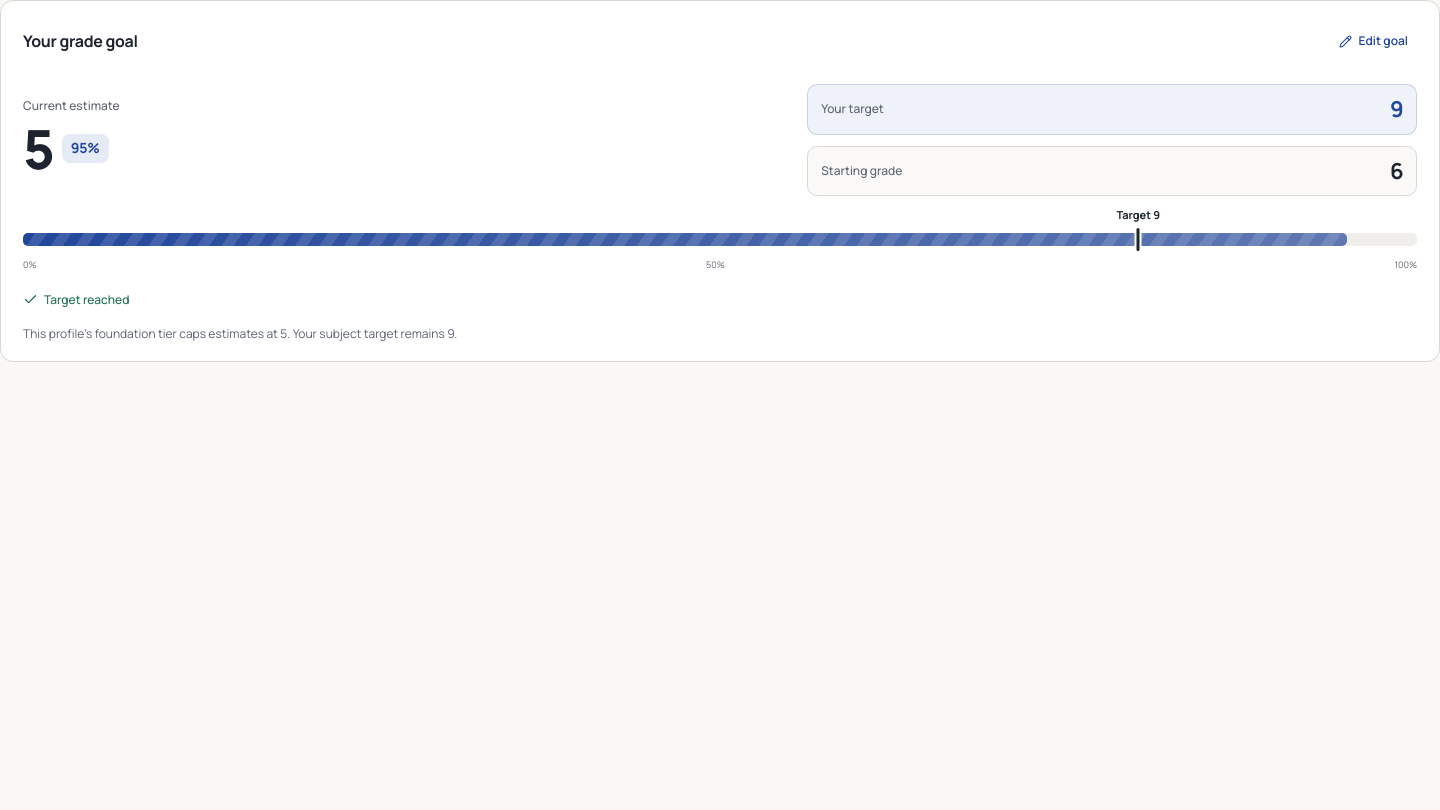
caps a selected Foundation profile even when the subject previously saved Higher settings
This screenshot has width=1440, height=810.
Expected: the element showing "5 95%" is shown, left=23, top=111, right=109, bottom=185
Expected: the text "caps estimates at 5" shows "Your subject target remains 9", left=23, top=325, right=457, bottom=342
Click the button "Edit goal" at [1374, 41], box left=1330, top=21, right=1417, bottom=61
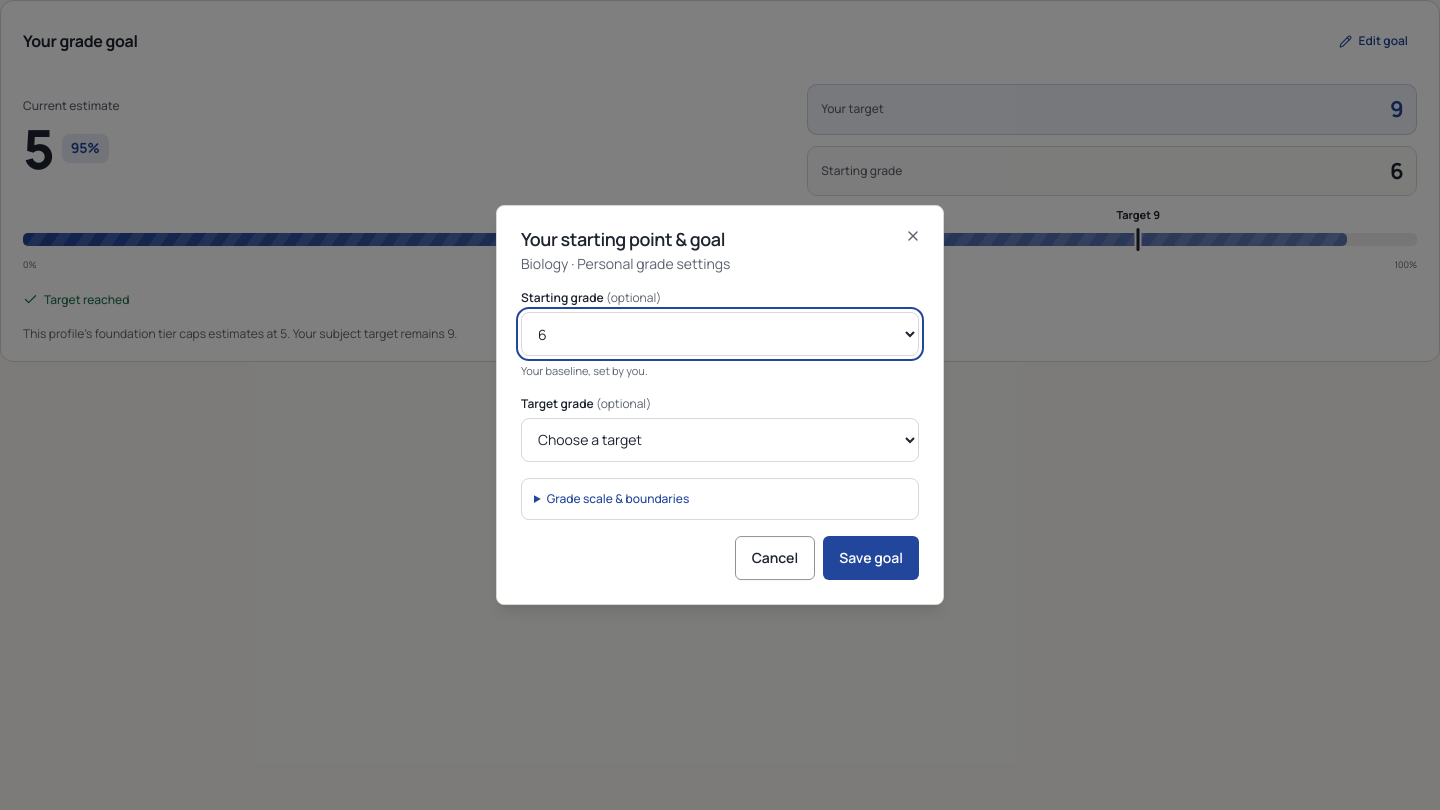
Click the heading "Grade scale & boundaries" at [618, 498], box left=547, top=490, right=689, bottom=507
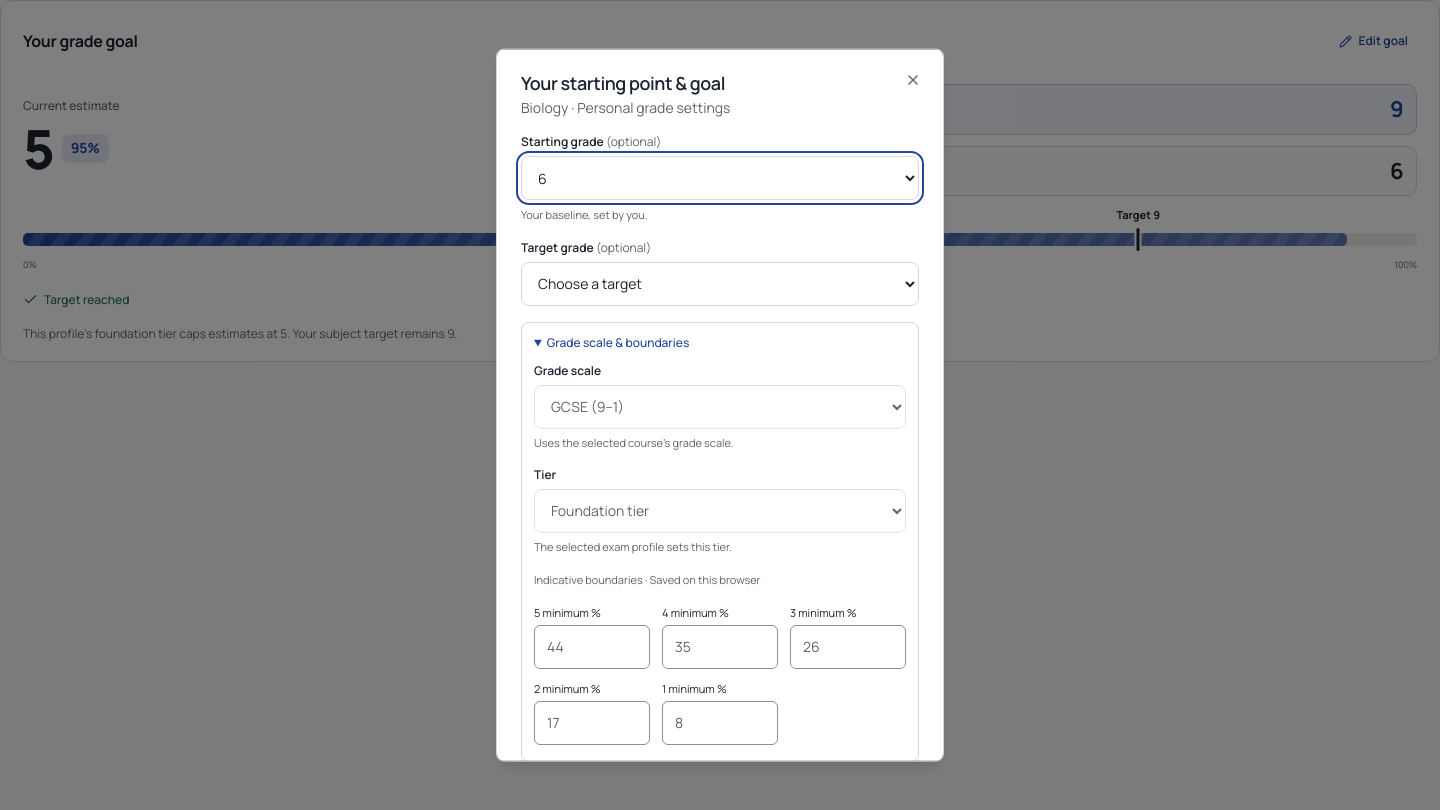
Expected: the dropdown labelled "Starting grade (optional)" shows "6", left=521, top=156, right=919, bottom=200
Expected: the dropdown labelled "Tier" is disabled, left=534, top=488, right=906, bottom=532
